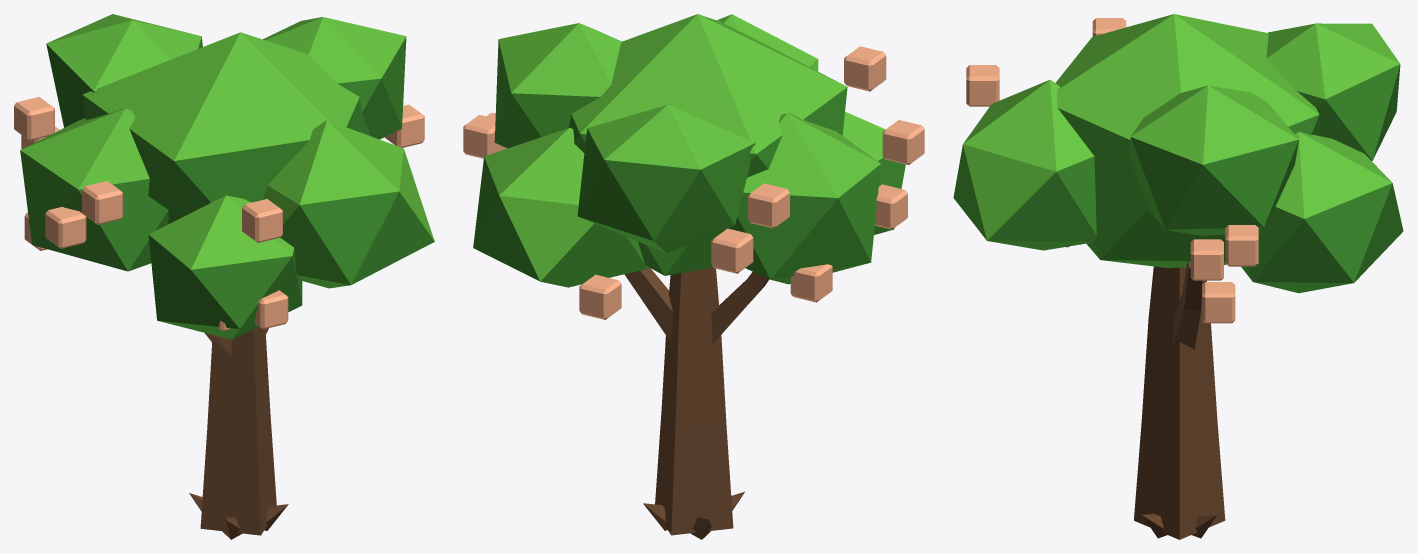
The model's file is PeachTree.fbx.
3 views of the same model, side by side, from view 1: azimuth 30°, elevation 25°; view 2: azimuth 150°, elevation 25°; view 3: azimuth 270°, elevation 25° (orthographic). The views are drawn at different scales.
Visible parts, largest first — view 1: PeachTree; view 2: PeachTree; view 3: PeachTree.
Boxes of the visible parts, x1,y1,x2,y2 form: PeachTree: [14, 14, 434, 539]; PeachTree: [463, 14, 924, 539]; PeachTree: [953, 14, 1403, 539].
Bounding box in the file's own units: 11.63 × 14.28 × 11.31.
Materials: 1 (1 with a texture image).
